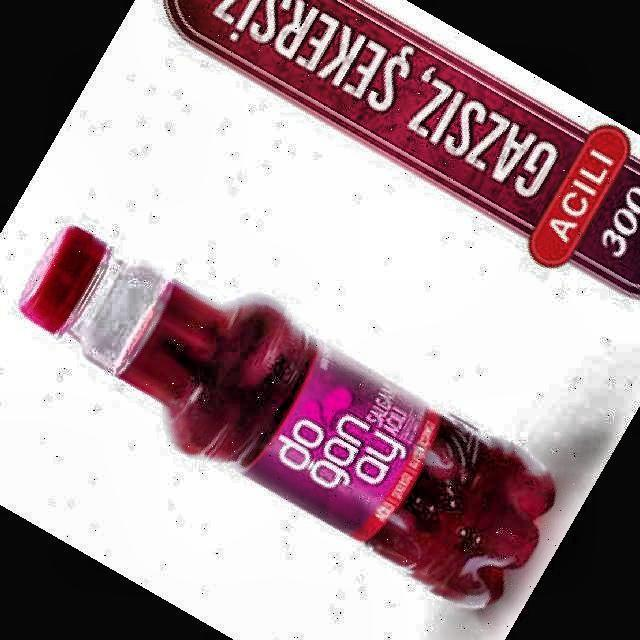plastic: (20, 226, 556, 608)
